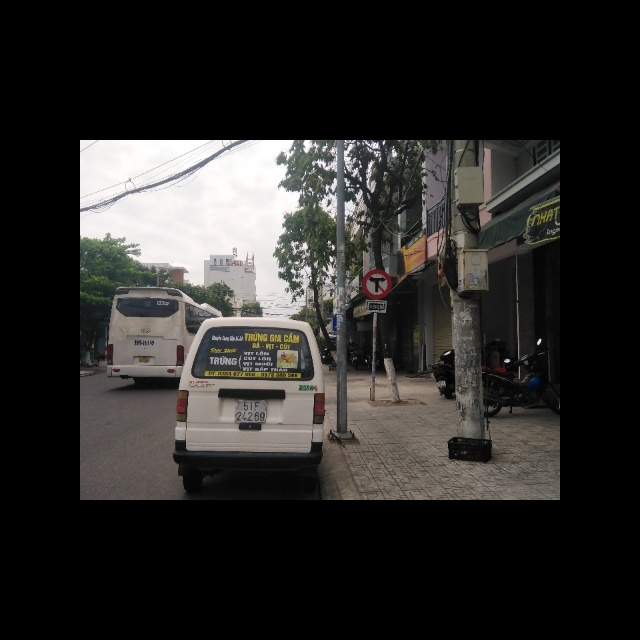Cấm rẽ trái và rẽ phải: (362, 269, 391, 298)
